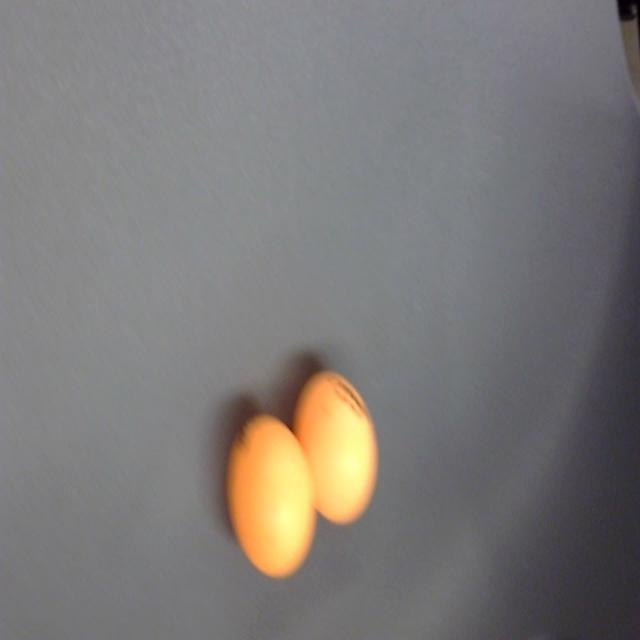ball: (227, 410, 314, 581), (292, 372, 380, 522)
